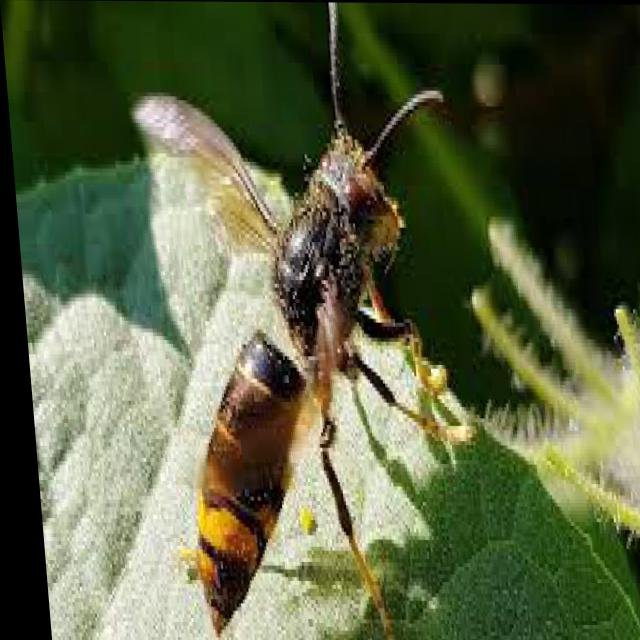Vespa Velutina: (117, 1, 487, 639)
